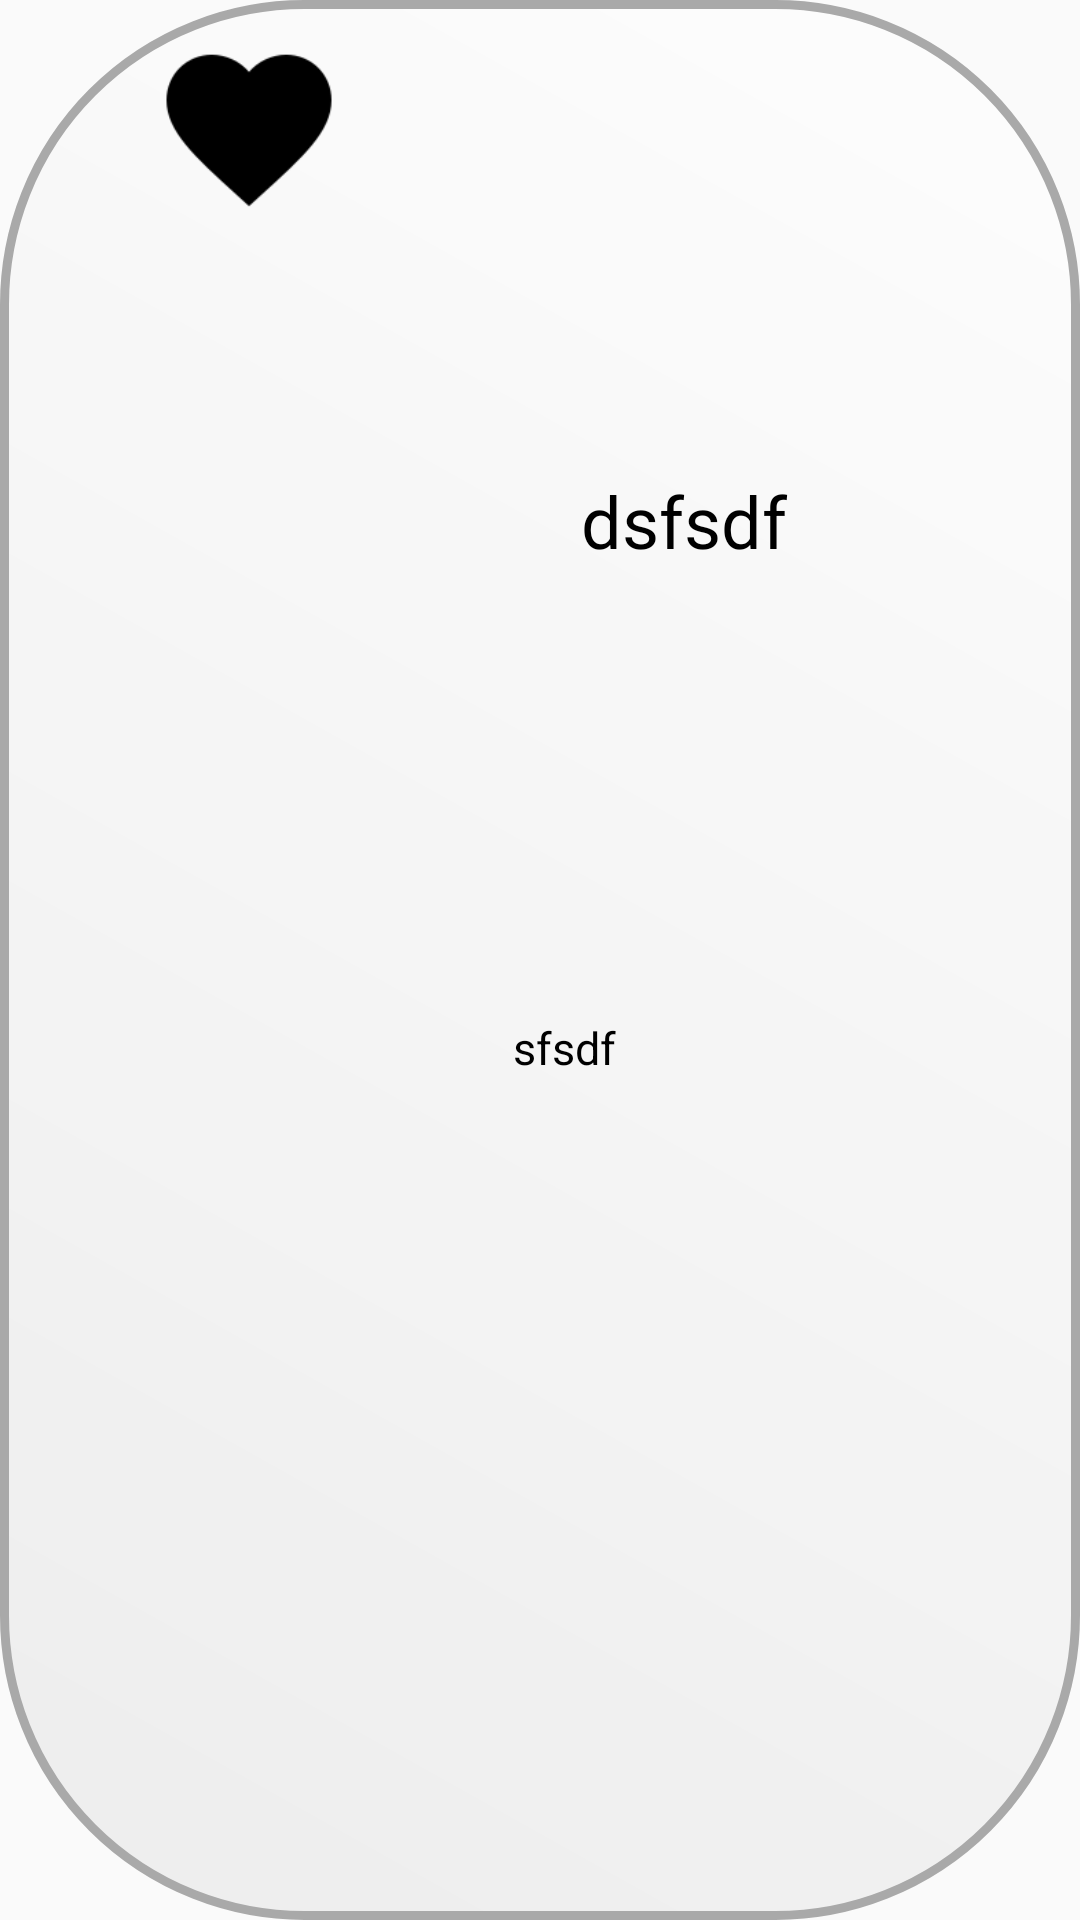

Icon bounding boxes for this 1080 × 1920 phone screenshot, format bbox=(x1, y1, x2, y2):
heart: bbox=(166, 54, 332, 206)
